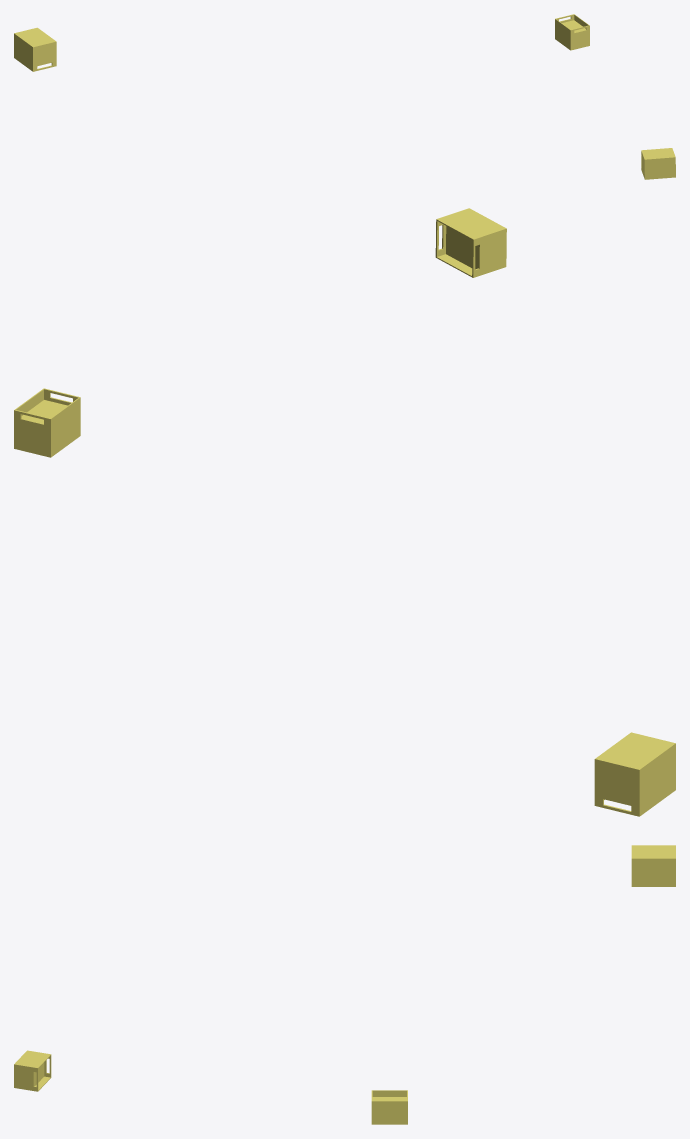
Rendered from CaixaAmarela.fbx.
3 views of the same model, one above another, from view 1: azimuth 30°, elevation 25°; view 2: azimuth 150°, elevation 25°; view 3: azimuth 270°, elevation 25° (orthographic). The views are drawn at different scales.
Parts seen in each view (by area): view 1: CaixaA.001; view 2: CaixaA.001; view 3: CaixaA.001.
Part boxes in pixels (box(x1,y1,x2,y2)): CaixaA.001: box(14, 14, 675, 179); CaixaA.001: box(14, 208, 675, 816); CaixaA.001: box(14, 845, 675, 1124).
Bounding box in the file's own units: 535 × 30.73 × 597.
